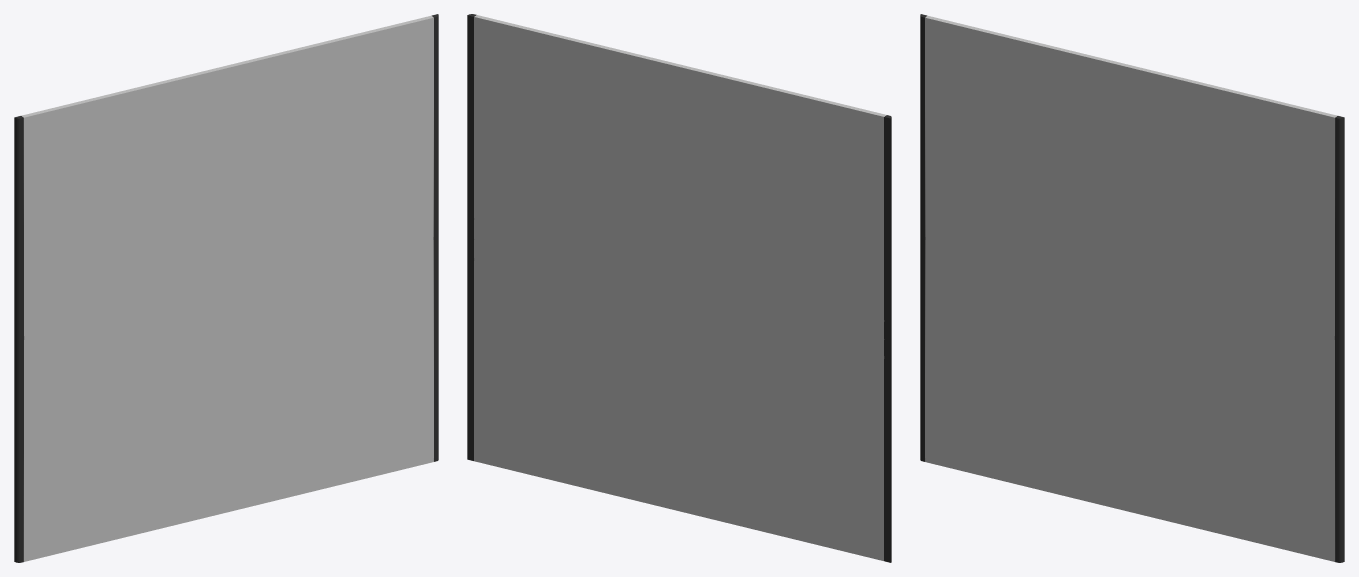
Rendered from mesh_CS_card_textframe_mid.fbx.
The picture shows the model from 3 angles, left to right: view 1: azimuth 30°, elevation 25°; view 2: azimuth 150°, elevation 25°; view 3: azimuth 330°, elevation 25°; orthographic projection.
Parts seen in each view (by area): view 1: mesh_CS_card_textframe_mid; view 2: mesh_CS_card_textframe_mid; view 3: mesh_CS_card_textframe_mid.
Part boxes in pixels (x1=…): mesh_CS_card_textframe_mid: x1=14, y1=14, x2=438, y2=562; mesh_CS_card_textframe_mid: x1=467, y1=14, x2=891, y2=562; mesh_CS_card_textframe_mid: x1=920, y1=14, x2=1344, y2=562.
Bounding box in the file's own units: 599 × 600 × 6.72.
